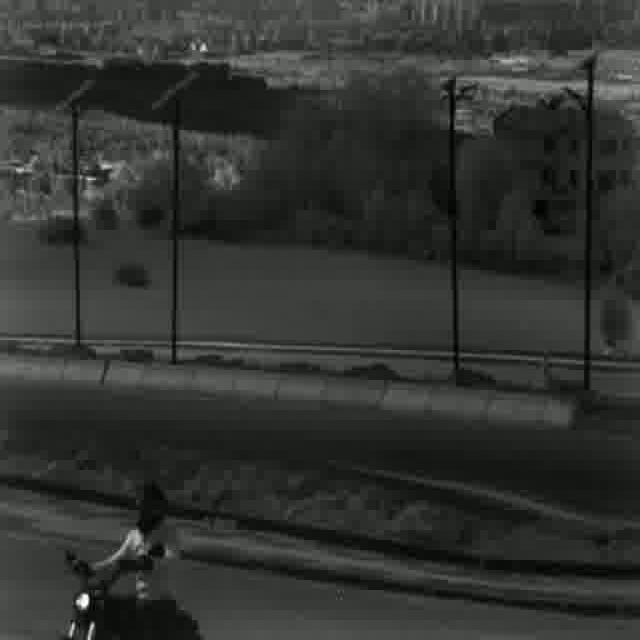Motorcycle: (59, 482, 198, 640)
